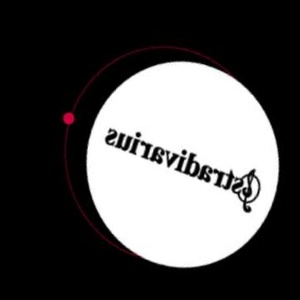stradivarius: (230, 82, 300, 214)
